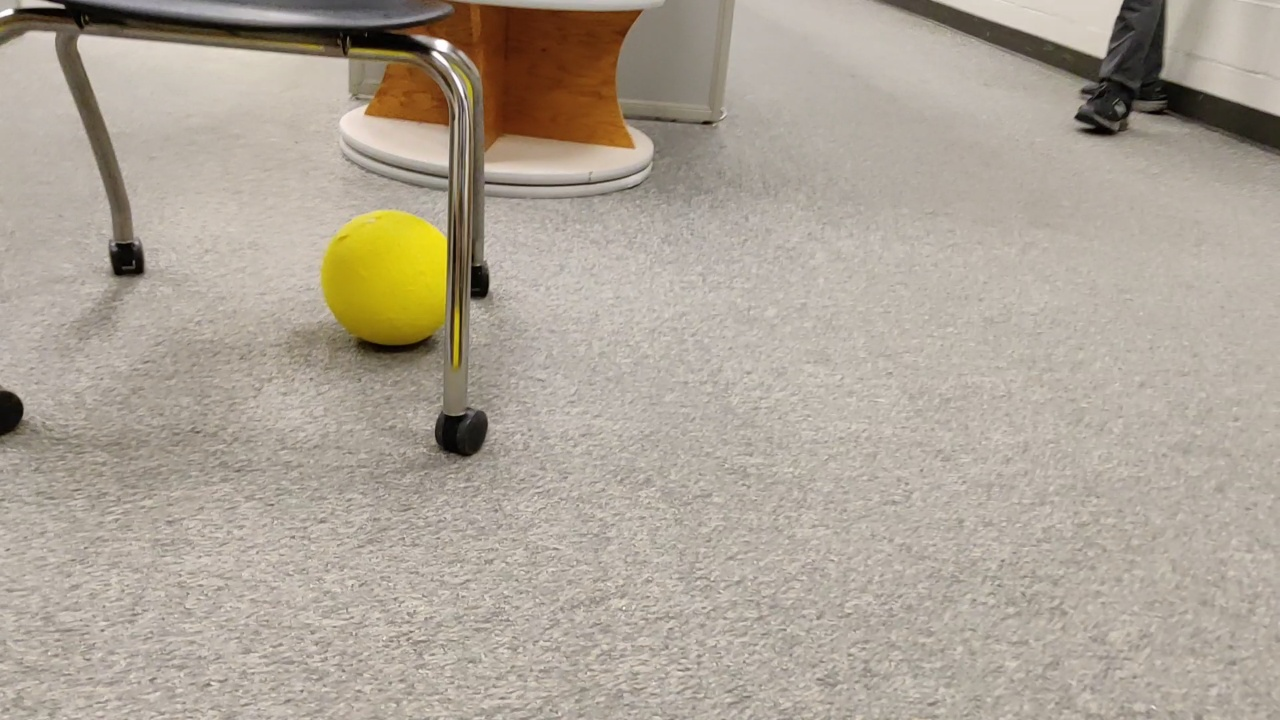Ball: (319, 210, 450, 350)
